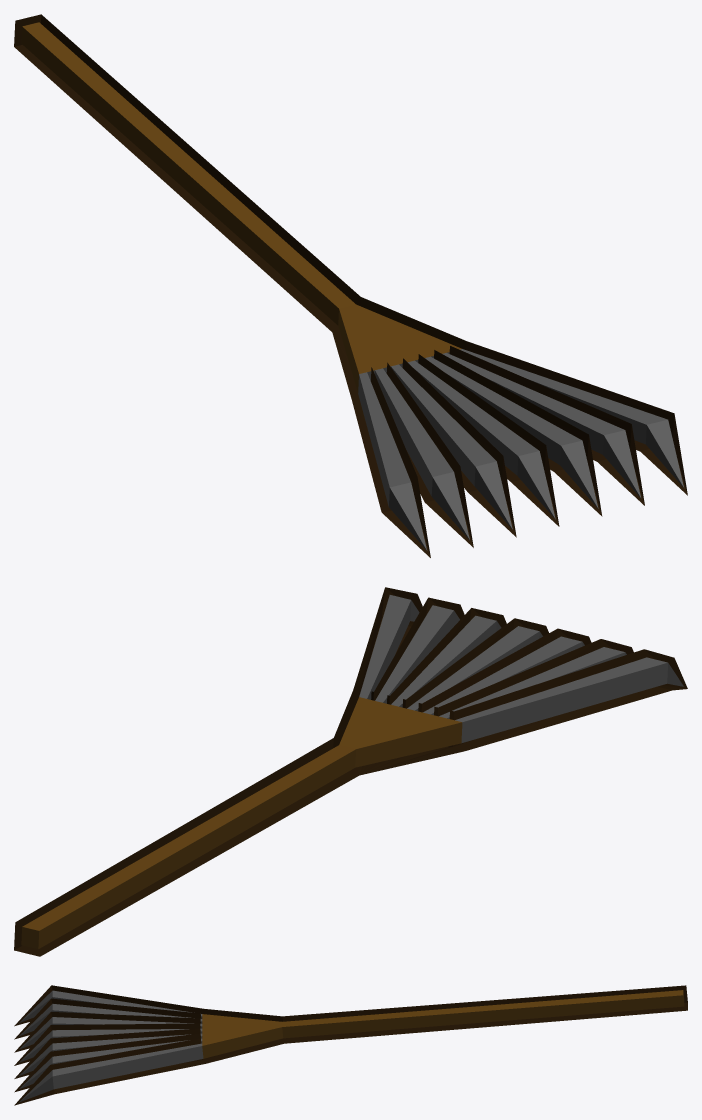
File: Rake.FBX
3 renders of one model, top to bottom at view 1: azimuth 30°, elevation 25°; view 2: azimuth 150°, elevation 25°; view 3: azimuth 270°, elevation 25°, orthographic. The views are drawn at different scales.
Parts seen in each view (by area): view 1: Rake; view 2: Rake; view 3: Rake.
Boxes of the visible parts, x1,y1,x2,y2 form: Rake: (14, 14, 687, 557); Rake: (14, 587, 687, 956); Rake: (14, 985, 687, 1105).
Bounding box in the file's own units: 94.3 × 37.48 × 299.
1 material, 1 textured.
